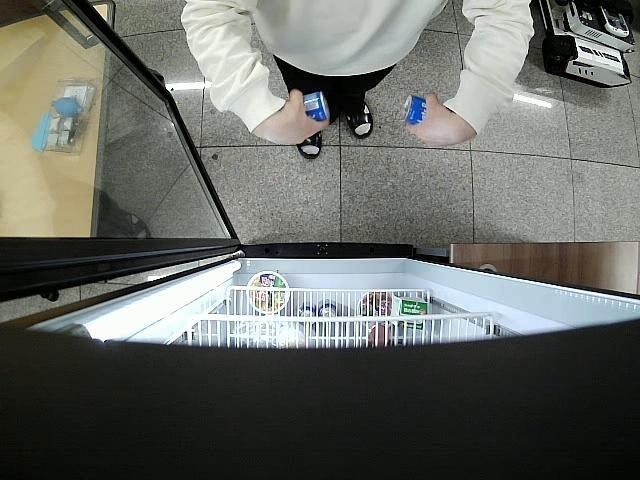15_letsbe: (300, 90, 330, 124), (398, 94, 426, 126)
